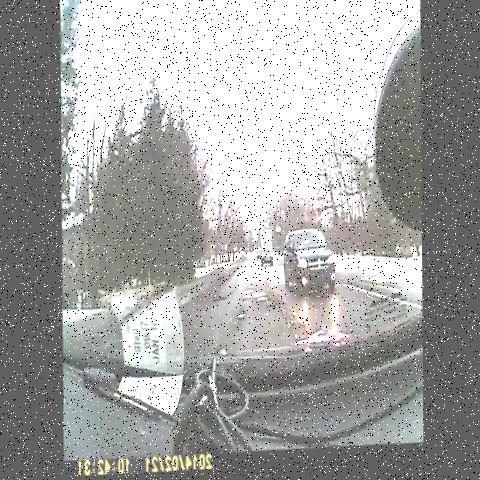pothole: (244, 282, 279, 323), (231, 304, 249, 337), (211, 291, 228, 312)
